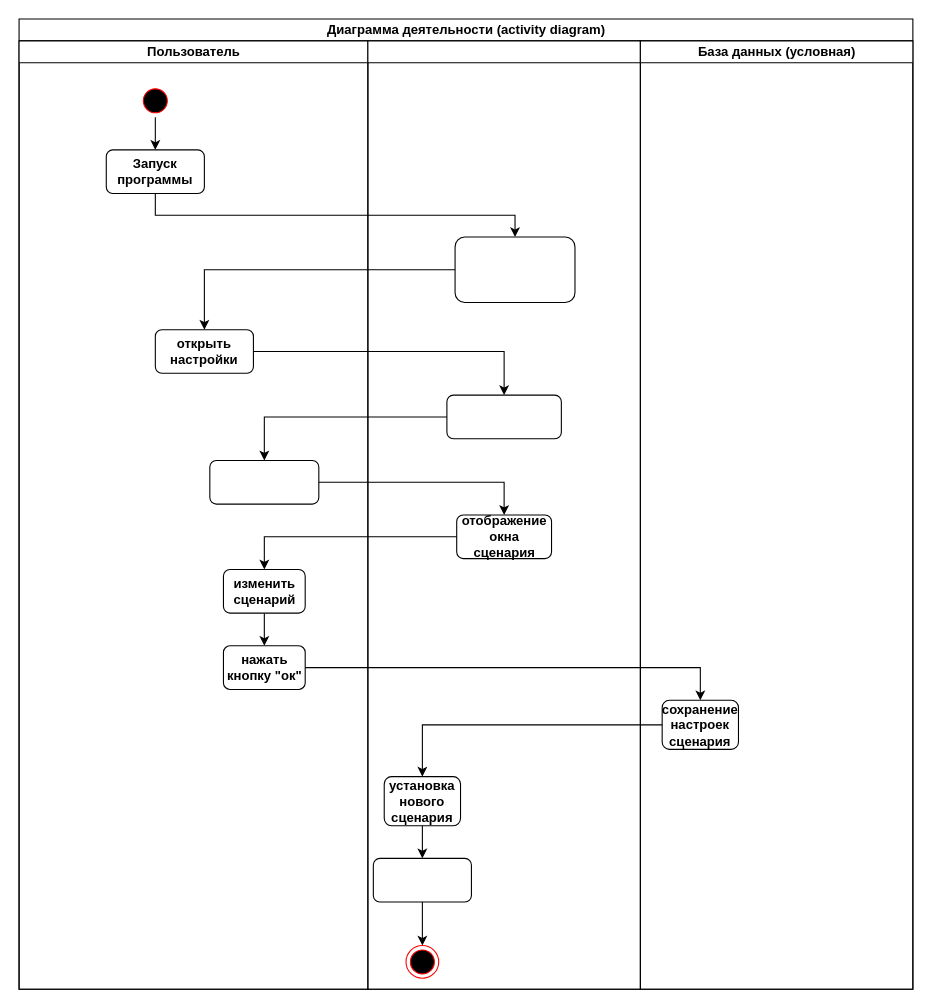
Image size: 932x1008. Some labels were removed from this diagram. The box of each missing label's shape, as (x1, y1, x2, y2) in pixels:
Бизнес-логика: (367, 40, 640, 989)
Завершить работу приложения: (372, 857, 471, 902)
нажать кнопку "поменять сценарий": (209, 459, 319, 504)
отображение окна настроек: (446, 394, 561, 439)
Отображение окна управления: (454, 236, 575, 302)
